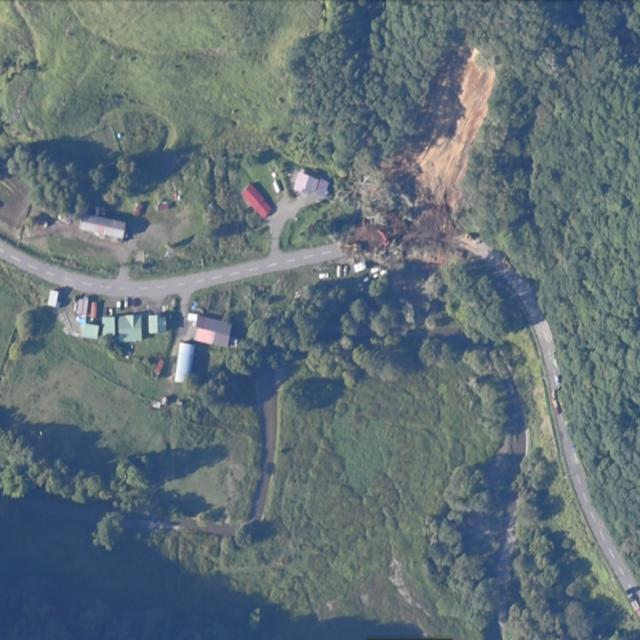landslide: (391, 46, 496, 211)
